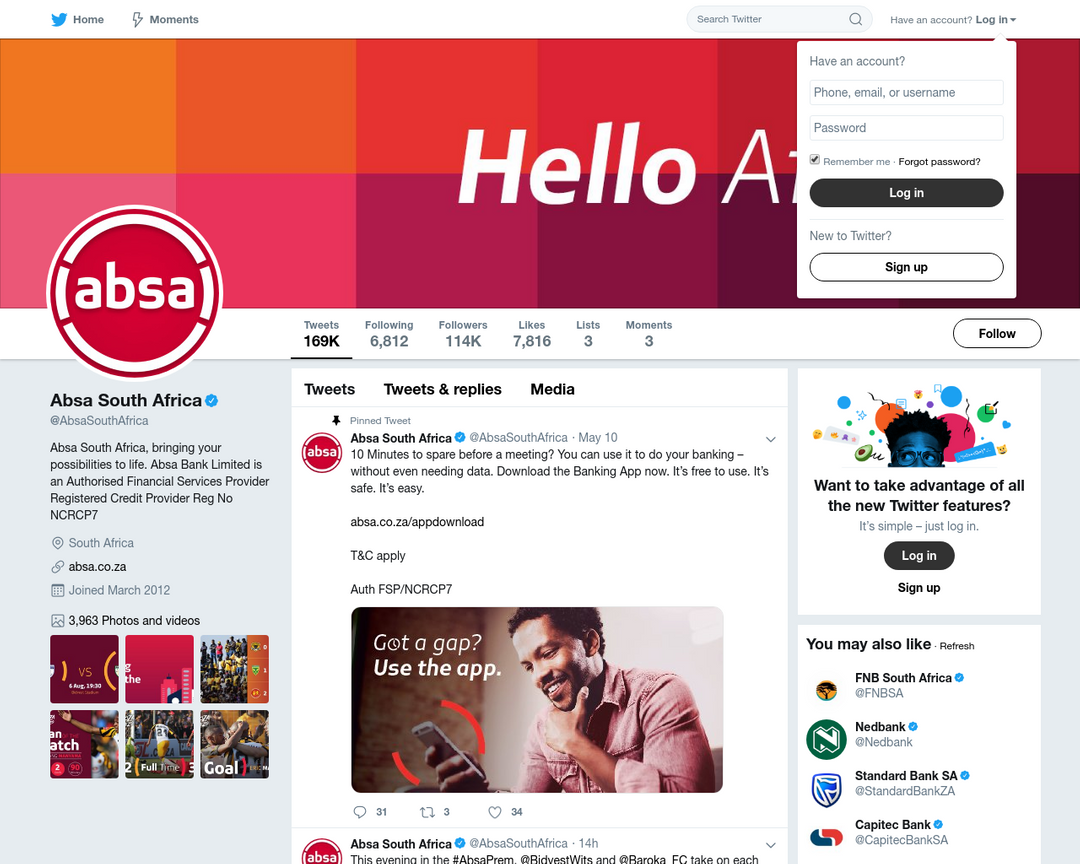ABSA: (34, 203, 224, 385), (297, 432, 347, 475), (299, 839, 343, 863)
